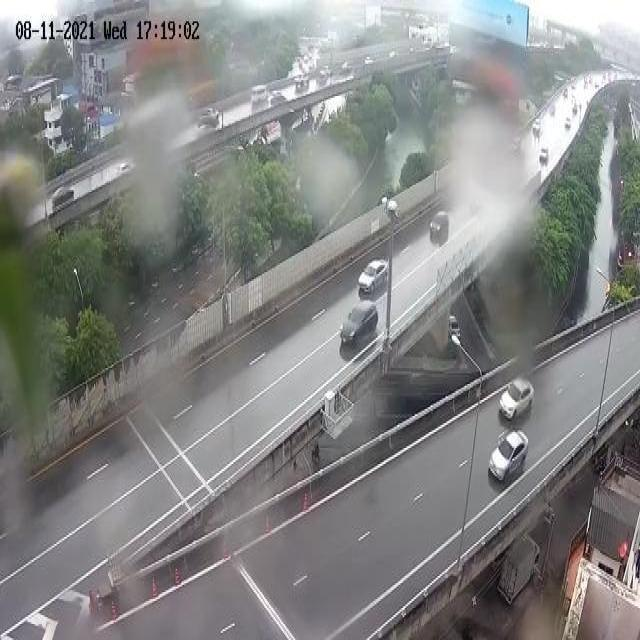Car: (488, 426, 530, 481), (338, 297, 379, 353), (356, 252, 391, 299), (500, 376, 535, 416), (428, 208, 451, 247)
